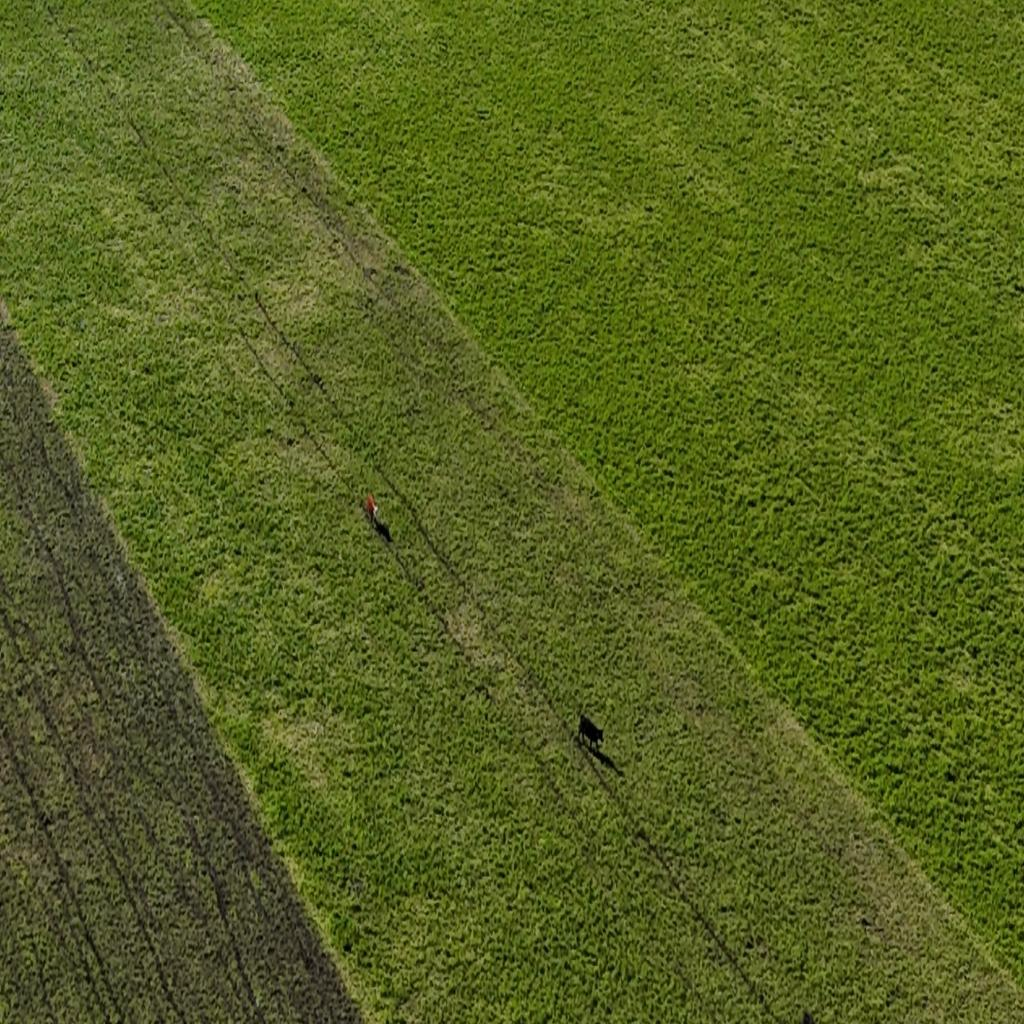cow: (578, 712, 604, 754), (366, 494, 378, 524)
